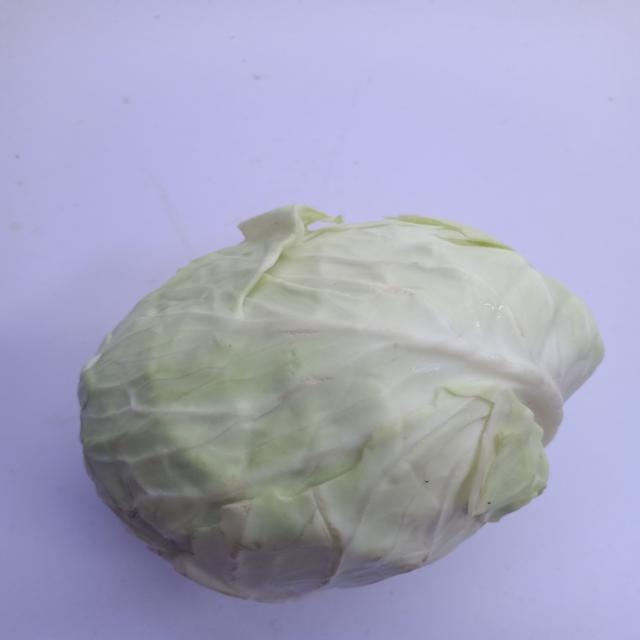Cabbage: (73, 198, 640, 606)
